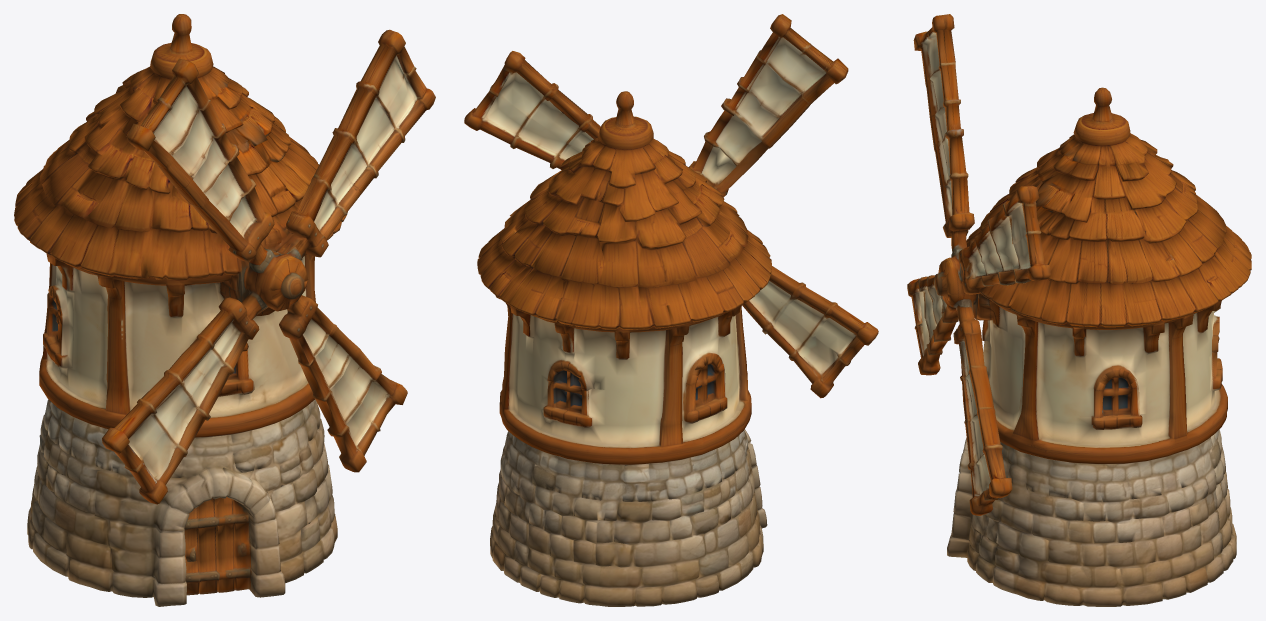
Rendered from windmill.glb.
3 views of the same model, side by side, from view 1: azimuth 30°, elevation 25°; view 2: azimuth 150°, elevation 25°; view 3: azimuth 270°, elevation 25° (orthographic). The views are drawn at different scales.
Visible parts, largest first — view 1: tripo_node_6c71dddb-cd3b-453f-9a88-9a02d2f7fbb8; view 2: tripo_node_6c71dddb-cd3b-453f-9a88-9a02d2f7fbb8; view 3: tripo_node_6c71dddb-cd3b-453f-9a88-9a02d2f7fbb8.
Boxes of the visible parts, x1,y1,x2,y2 form: tripo_node_6c71dddb-cd3b-453f-9a88-9a02d2f7fbb8: [14, 14, 435, 606]; tripo_node_6c71dddb-cd3b-453f-9a88-9a02d2f7fbb8: [464, 14, 878, 606]; tripo_node_6c71dddb-cd3b-453f-9a88-9a02d2f7fbb8: [907, 14, 1251, 606].
Bounding box in the file's own units: 0.7244 × 0.9767 × 0.6135.
Materials: 1 (1 with a texture image).
